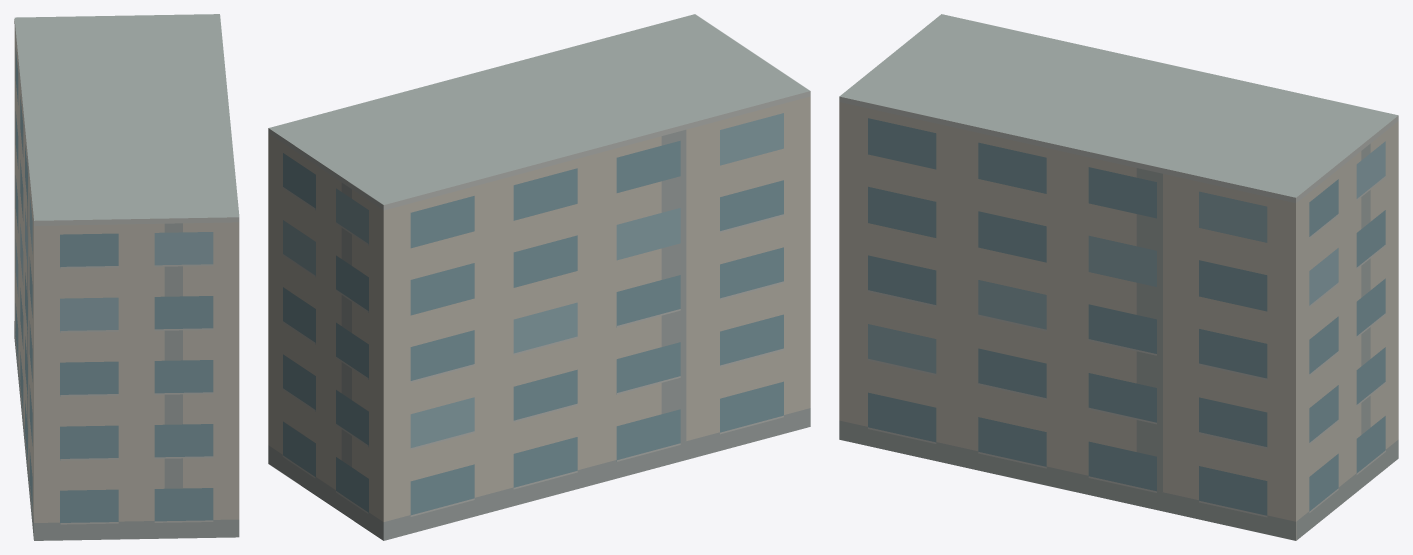
Rendered from residential-f7dfff79-34dd-4b53-bd5b-a21ee88be711.glb.
3 renders of one model, left to right at view 1: azimuth 30°, elevation 25°; view 2: azimuth 150°, elevation 25°; view 3: azimuth 270°, elevation 25°, orthographic. The views are drawn at different scales.
Parts seen in each view (by area): view 1: residential-f7dfff79-34dd-4b53-bd5b-a21ee88be711.tmp; view 2: residential-f7dfff79-34dd-4b53-bd5b-a21ee88be711.tmp; view 3: residential-f7dfff79-34dd-4b53-bd5b-a21ee88be711.tmp.
Part boxes in pixels (box(x1,y1,x2,y2)): residential-f7dfff79-34dd-4b53-bd5b-a21ee88be711.tmp: box(14, 14, 239, 540); residential-f7dfff79-34dd-4b53-bd5b-a21ee88be711.tmp: box(268, 14, 810, 540); residential-f7dfff79-34dd-4b53-bd5b-a21ee88be711.tmp: box(839, 14, 1398, 540).
Bounding box in the file's own units: 17.53 × 15.25 × 22.54.
